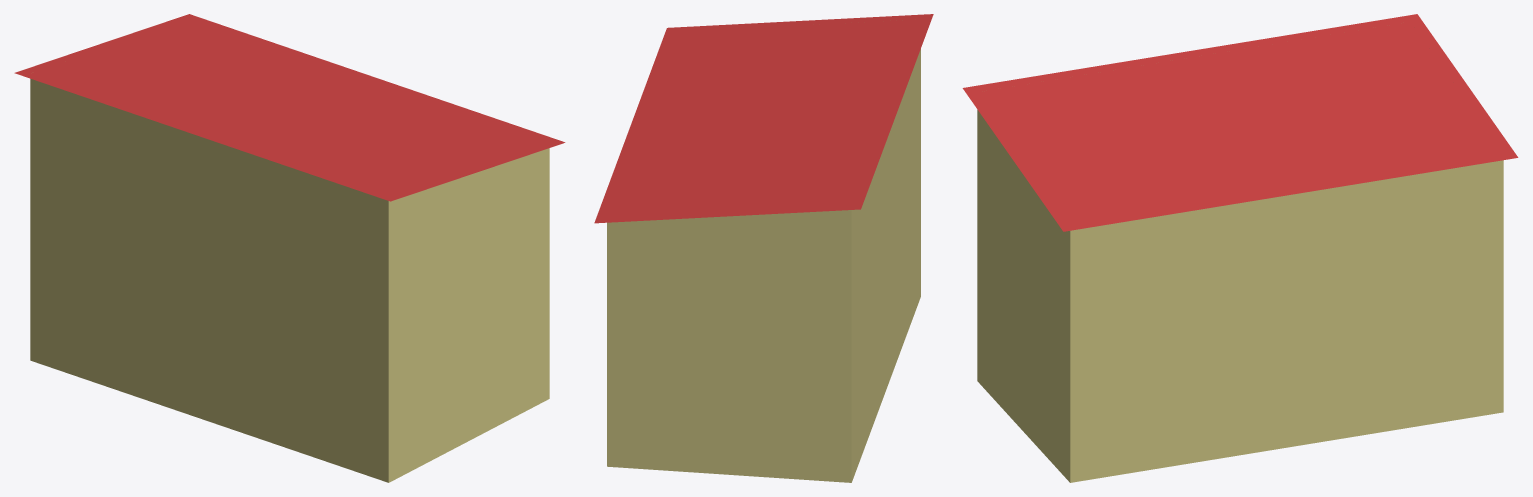
3 views of the same model, side by side, from view 1: azimuth 30°, elevation 25°; view 2: azimuth 150°, elevation 25°; view 3: azimuth 270°, elevation 25° (orthographic). The views are drawn at different scales.
Size of the model in its own units: 9.39 by 11.94 by 6.88.
